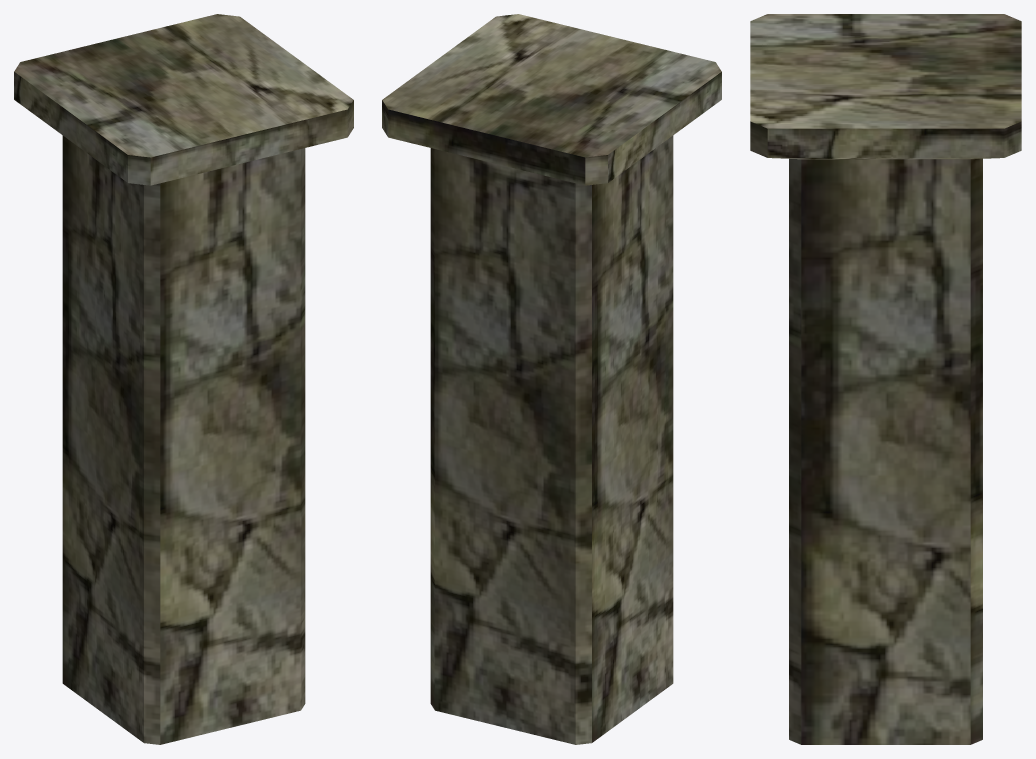
File: Cerco_Piedra_Madera_1.fbx
3 views of the same model, side by side, from view 1: azimuth 30°, elevation 25°; view 2: azimuth 150°, elevation 25°; view 3: azimuth 270°, elevation 25° (orthographic). The views are drawn at different scales.
Parts seen in each view (by area): view 1: Cerco_Piedra_Madera_1; view 2: Cerco_Piedra_Madera_1; view 3: Cerco_Piedra_Madera_1.
Part boxes in pixels (x1=…): Cerco_Piedra_Madera_1: x1=14, y1=14, x2=353, y2=744; Cerco_Piedra_Madera_1: x1=382, y1=14, x2=721, y2=744; Cerco_Piedra_Madera_1: x1=750, y1=14, x2=1021, y2=744.
Bounding box in the file's own units: 0.84 × 0.84 × 2.16.
Materials: 1 (1 with a texture image).
